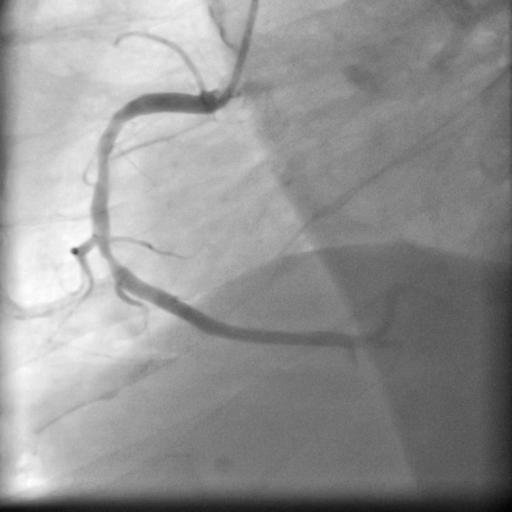Stenosis: (94, 231, 121, 274)
